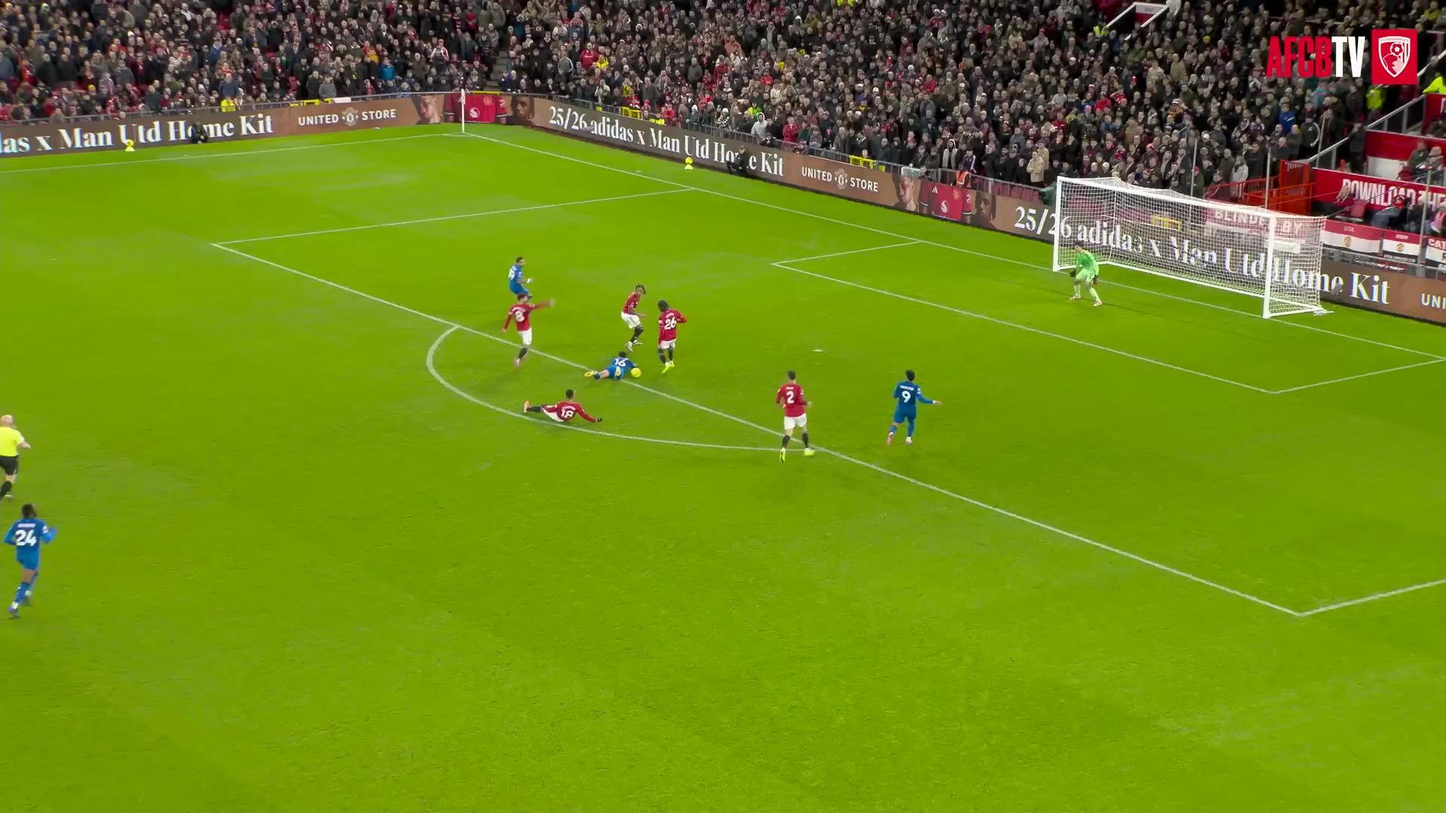football: (629, 367, 642, 376)
player: (4, 504, 56, 617), (886, 370, 941, 445), (502, 293, 554, 366), (776, 370, 813, 461), (524, 388, 601, 422), (657, 300, 686, 373), (1070, 250, 1102, 306), (621, 284, 645, 351), (584, 351, 635, 379), (508, 257, 531, 295)
referee: (0, 415, 29, 498)
